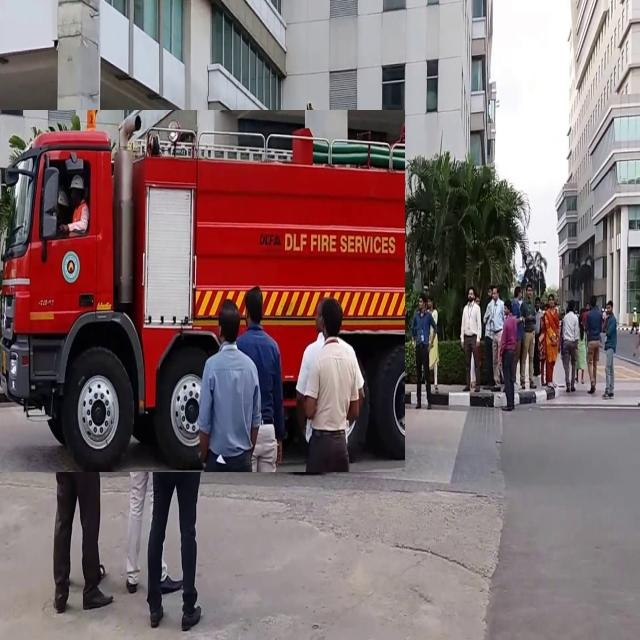emergency: (0, 111, 405, 472)
